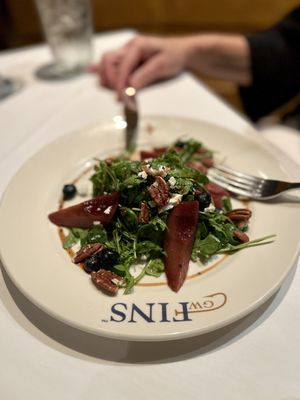pizza: (34, 0, 95, 79)
